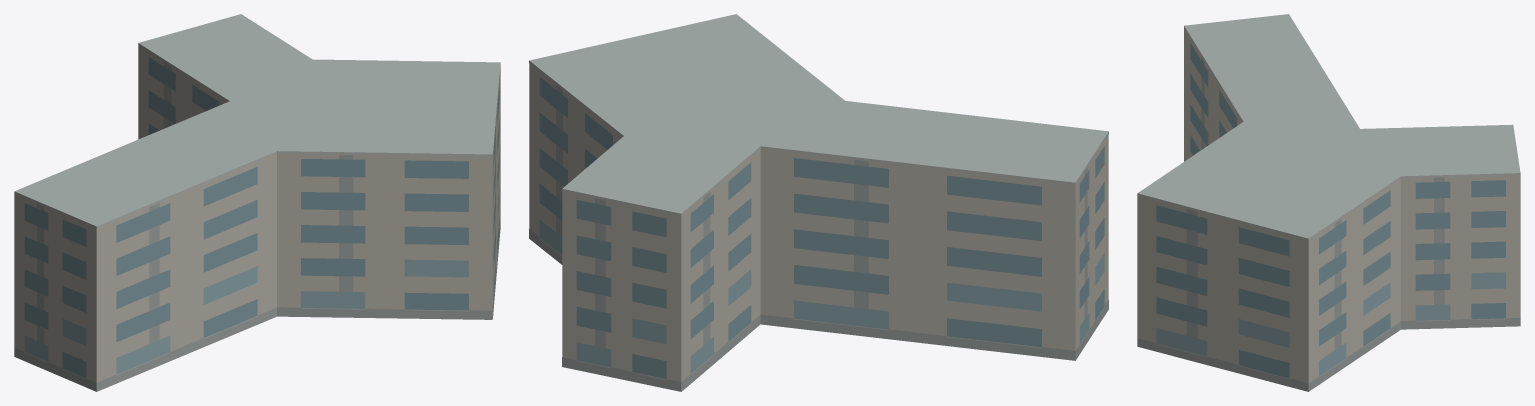
File: residential-8fe2085f-673a-44dd-8dfe-6cadbfaf731e.glb
3 renders of one model, left to right at view 1: azimuth 30°, elevation 25°; view 2: azimuth 150°, elevation 25°; view 3: azimuth 270°, elevation 25°, orthographic. The views are drawn at different scales.
Parts seen in each view (by area): view 1: residential-8fe2085f-673a-44dd-8dfe-6cadbfaf731e.tmp; view 2: residential-8fe2085f-673a-44dd-8dfe-6cadbfaf731e.tmp; view 3: residential-8fe2085f-673a-44dd-8dfe-6cadbfaf731e.tmp.
Boxes of the visible parts, x1,y1,x2,y2 form: residential-8fe2085f-673a-44dd-8dfe-6cadbfaf731e.tmp: (14,14,500,391); residential-8fe2085f-673a-44dd-8dfe-6cadbfaf731e.tmp: (529,14,1108,391); residential-8fe2085f-673a-44dd-8dfe-6cadbfaf731e.tmp: (1137,14,1520,391).
Size of the model in its own units: 47.92 by 15.25 by 34.55.
